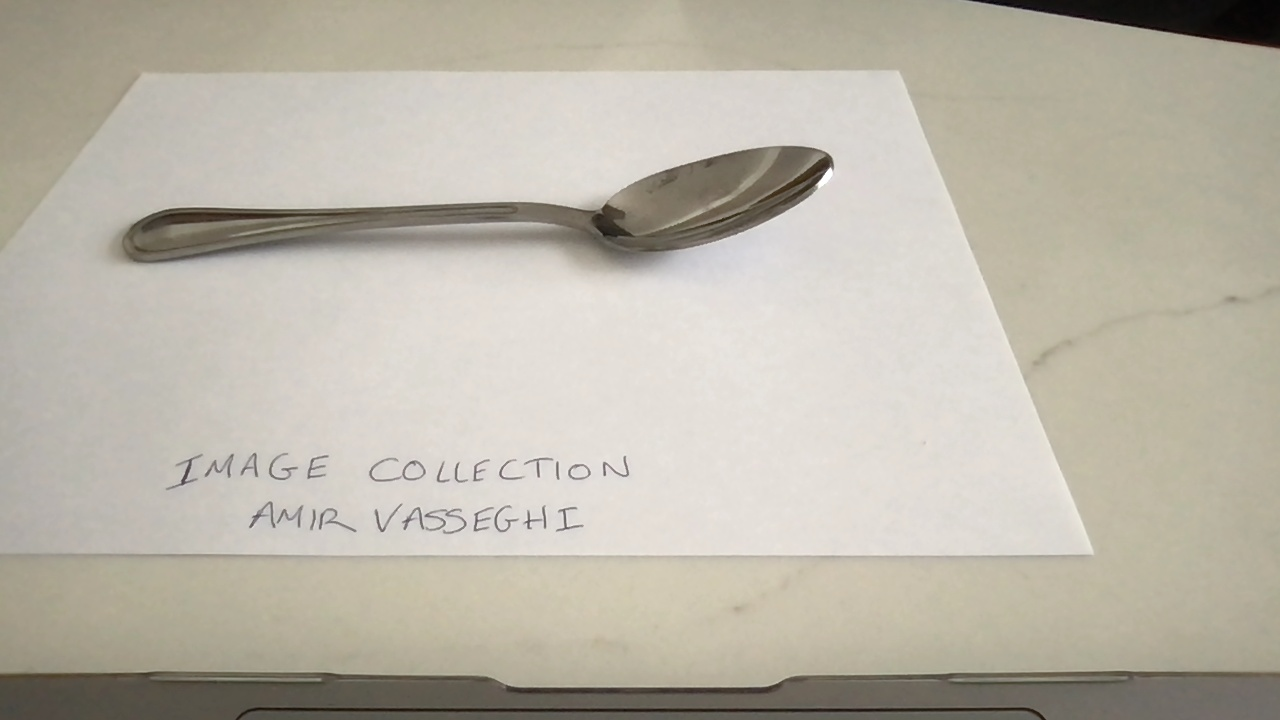spoon: (124, 143, 838, 264)
